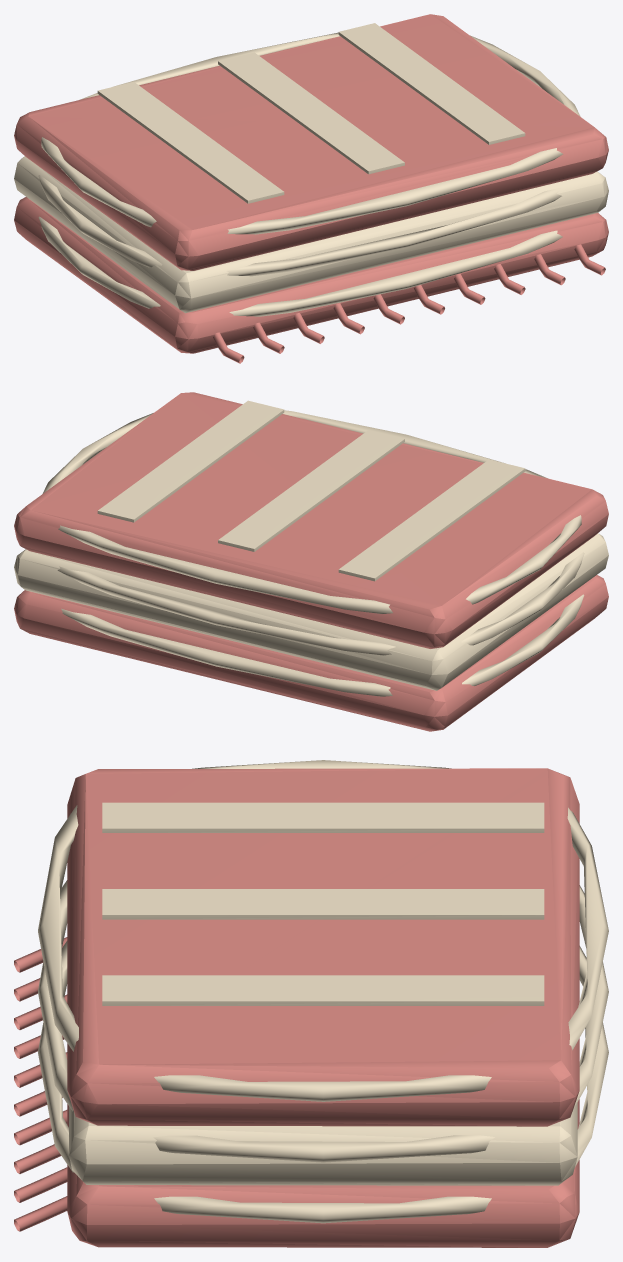
The model's file is blanket.glb.
3 renders of one model, top to bottom at view 1: azimuth 30°, elevation 25°; view 2: azimuth 150°, elevation 25°; view 3: azimuth 270°, elevation 25°, orthographic. The views are drawn at different scales.
Parts seen in each view (by area): view 1: Crafted_pink, Crafted_cream; view 2: Crafted_pink, Crafted_cream; view 3: Crafted_pink, Crafted_cream.
Boxes of the visible parts, x1,y1,x2,y2 form: Crafted_pink: (14,14,608,363); Crafted_cream: (14,23,608,316); Crafted_pink: (14,392,608,731); Crafted_cream: (14,400,608,696); Crafted_pink: (14,768,579,1247); Crafted_cream: (38,760,608,1223).
Bounding box in the file's own units: 0.6928 × 0.1922 × 0.5242.
